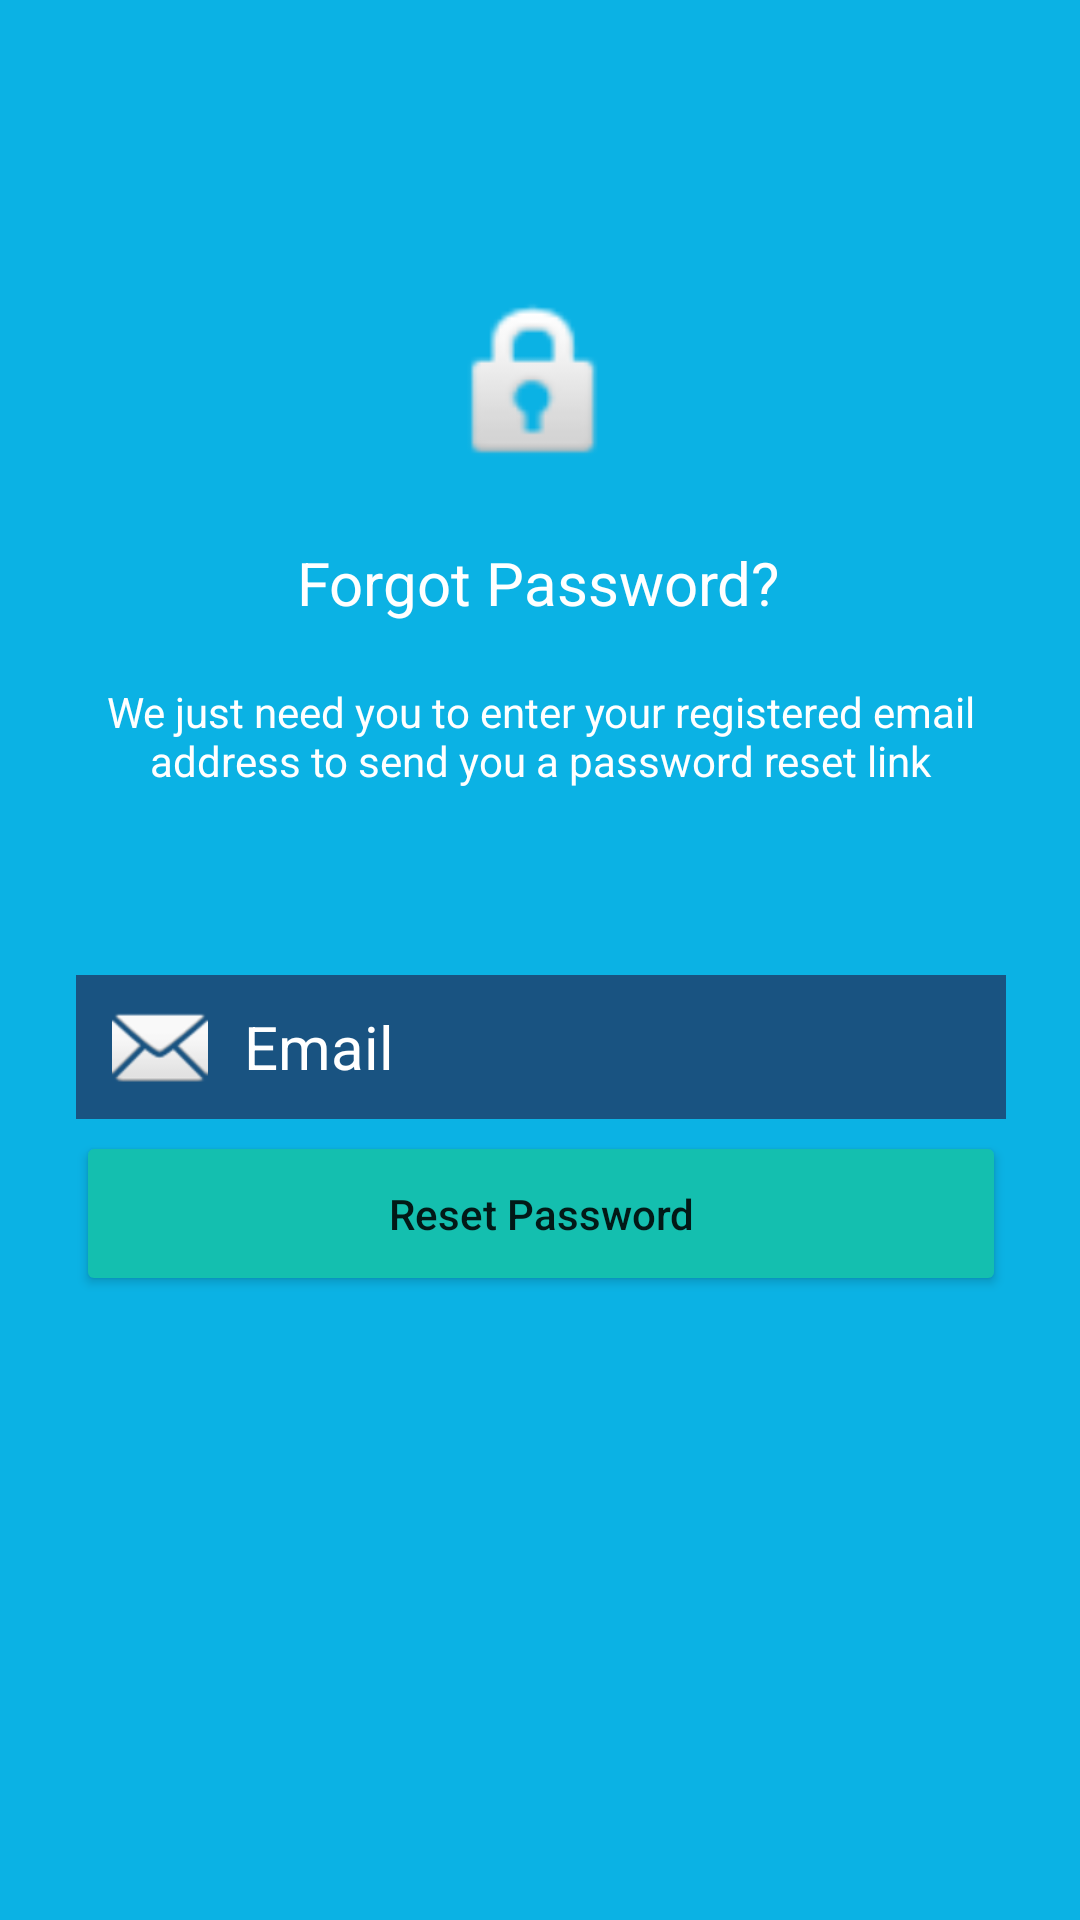

Point at icon controls on the screen. Image size 1080px×1920px, points as [x,y].
lock idle: [533,379]
